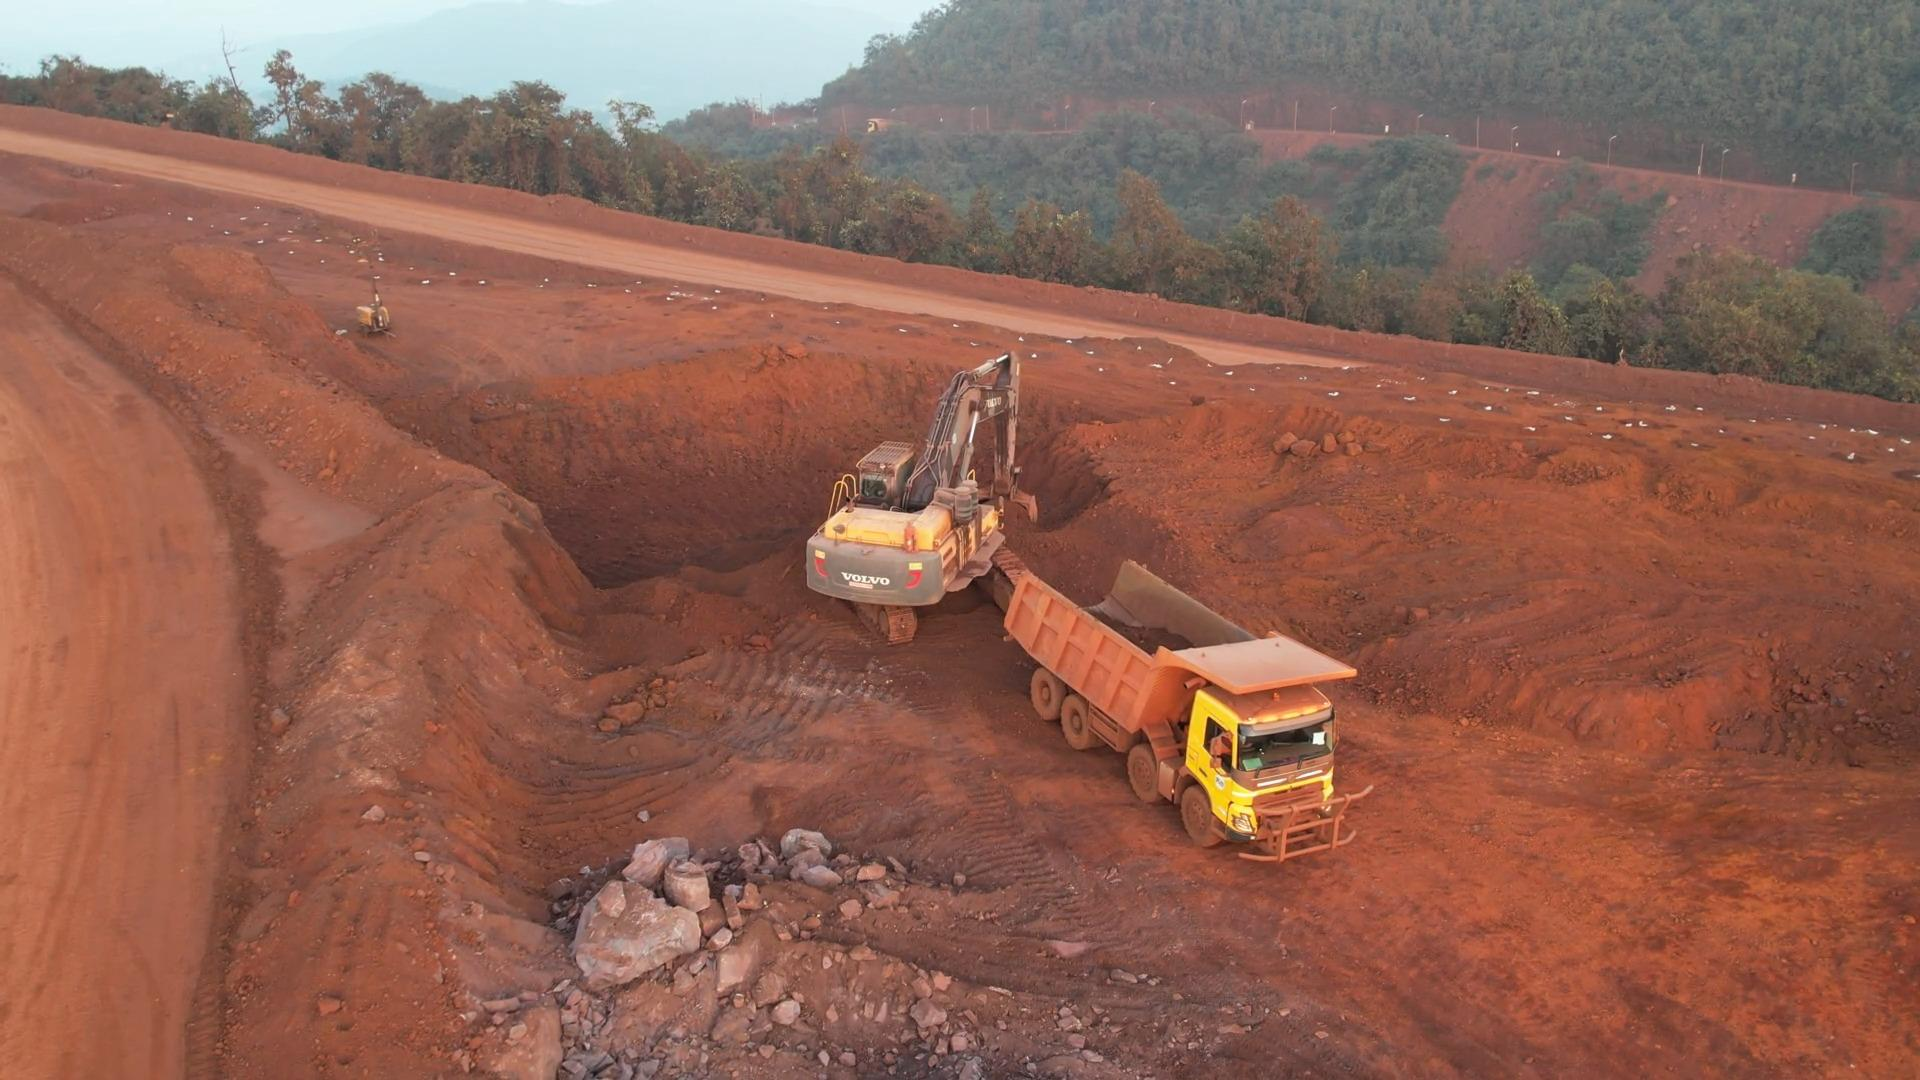excavator: (808, 357, 1034, 569)
